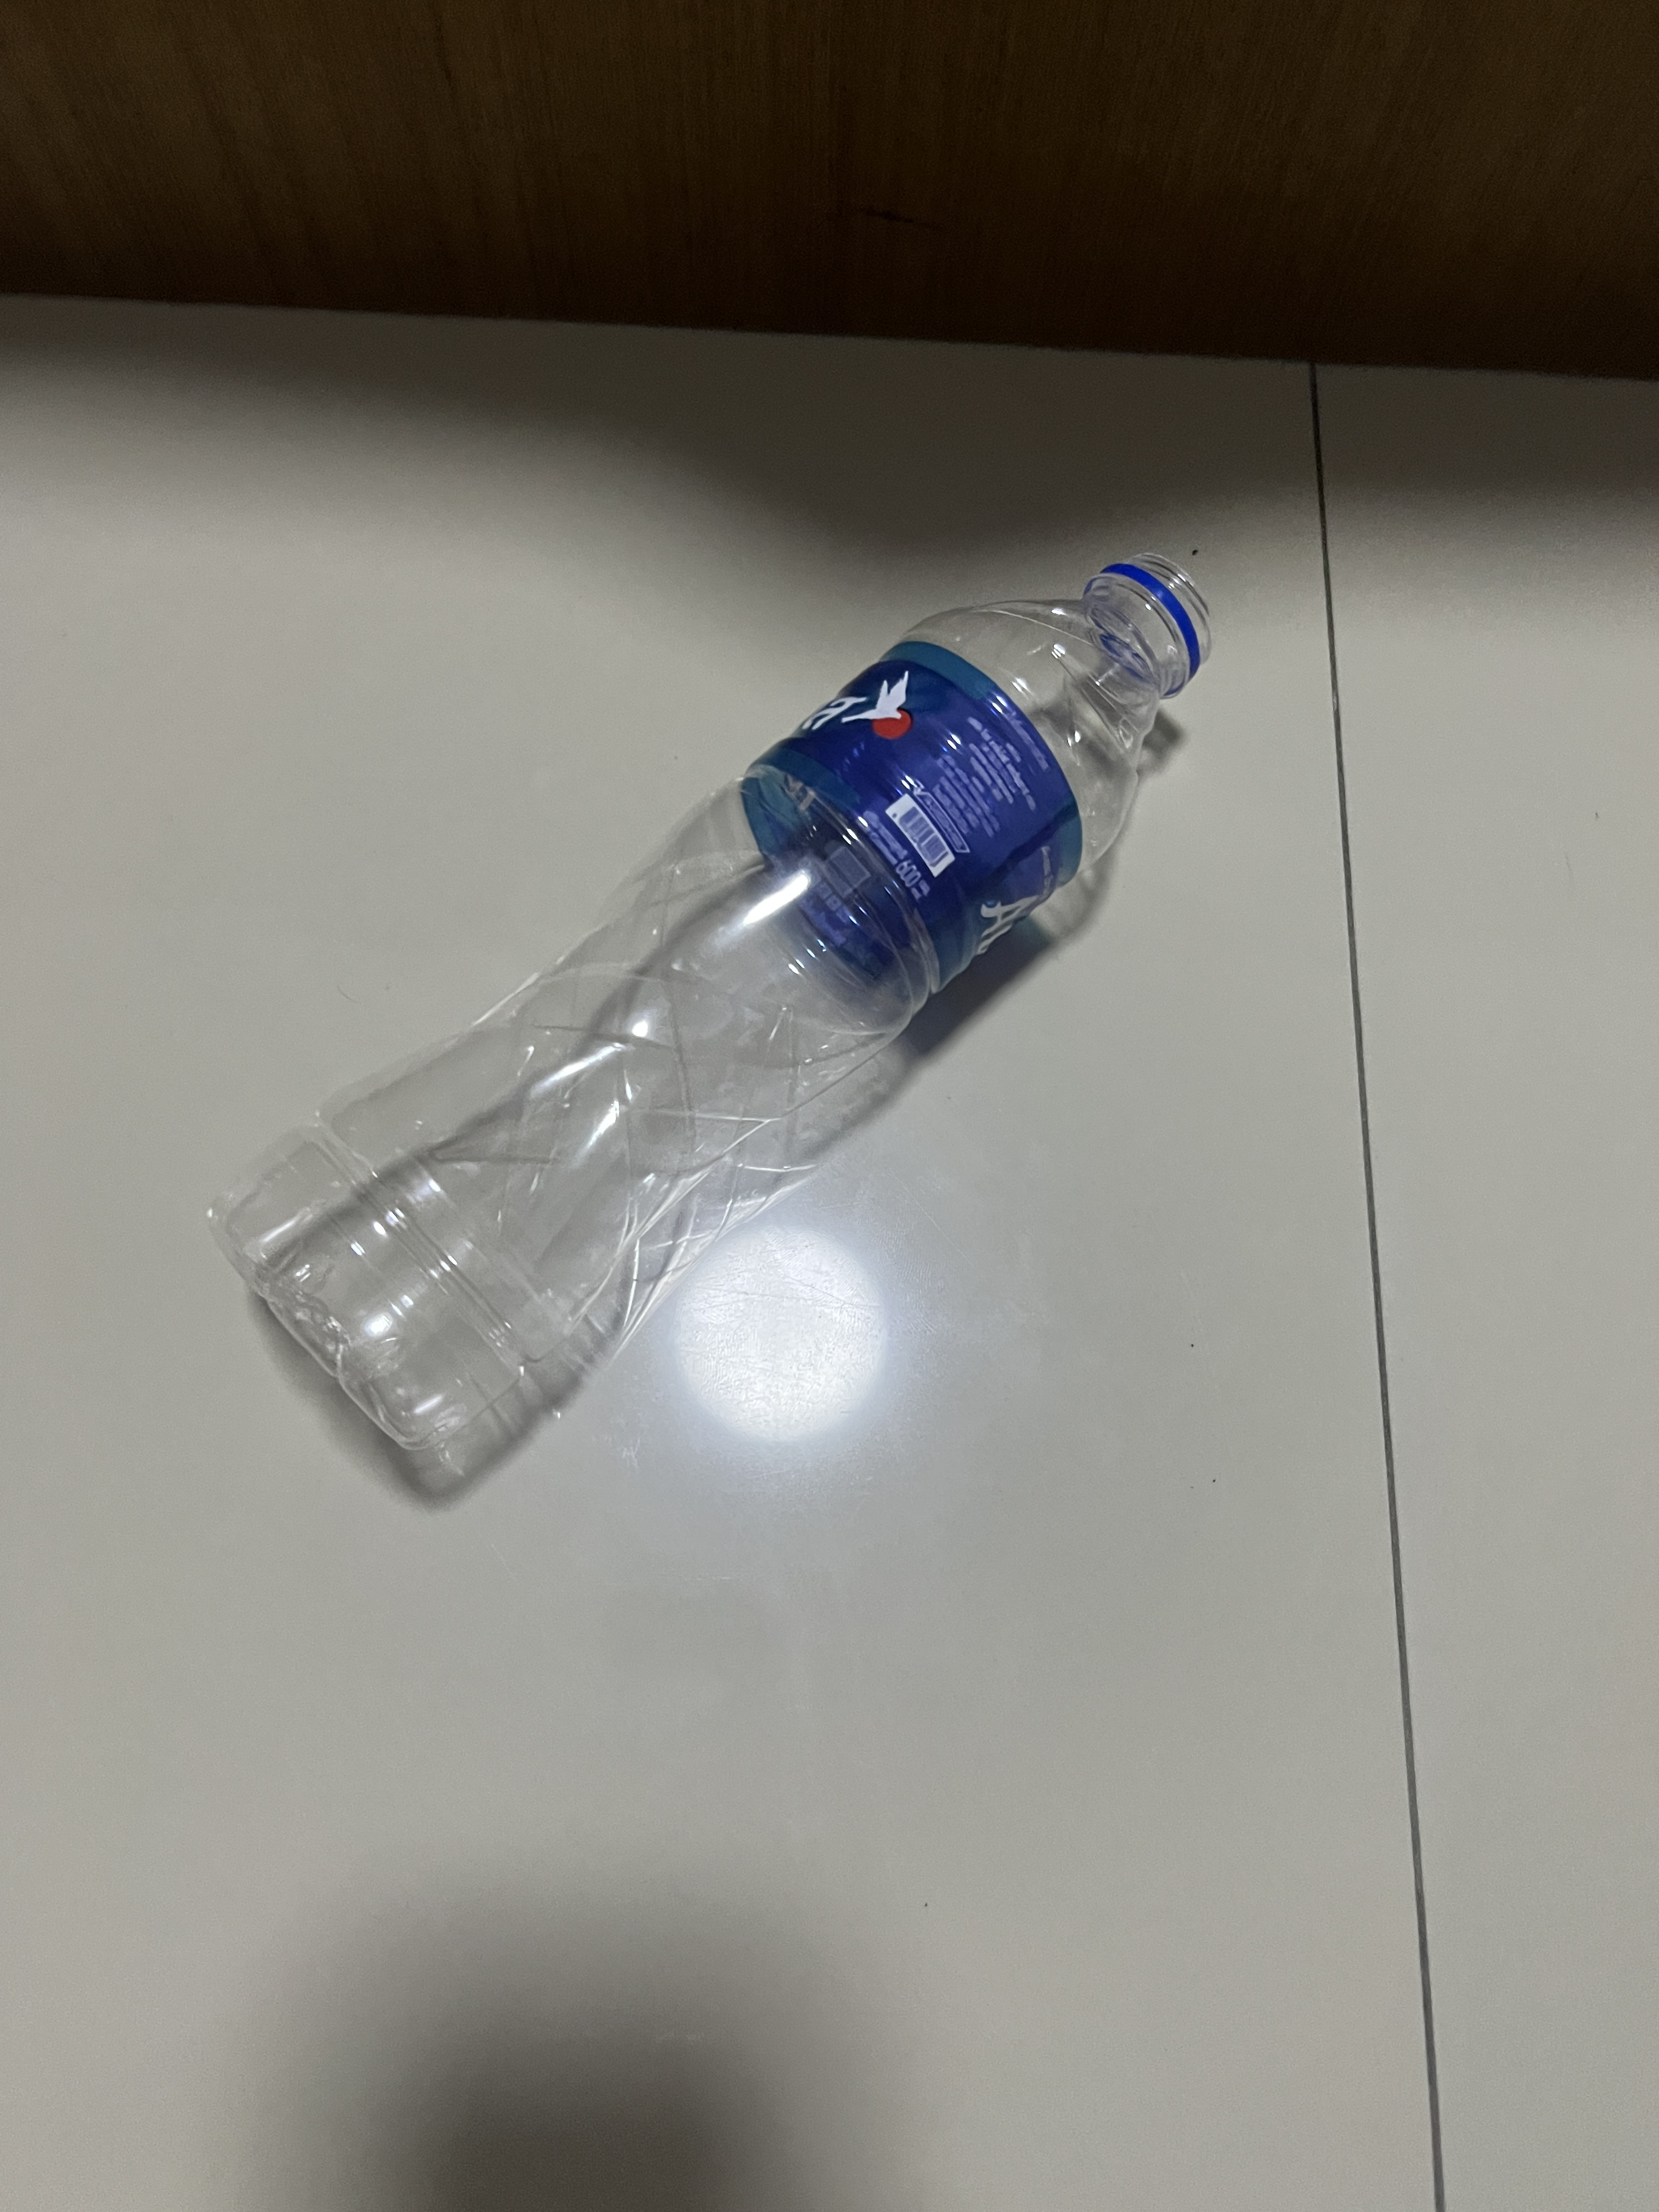plastic_bottle: (192, 390, 1270, 1545)
